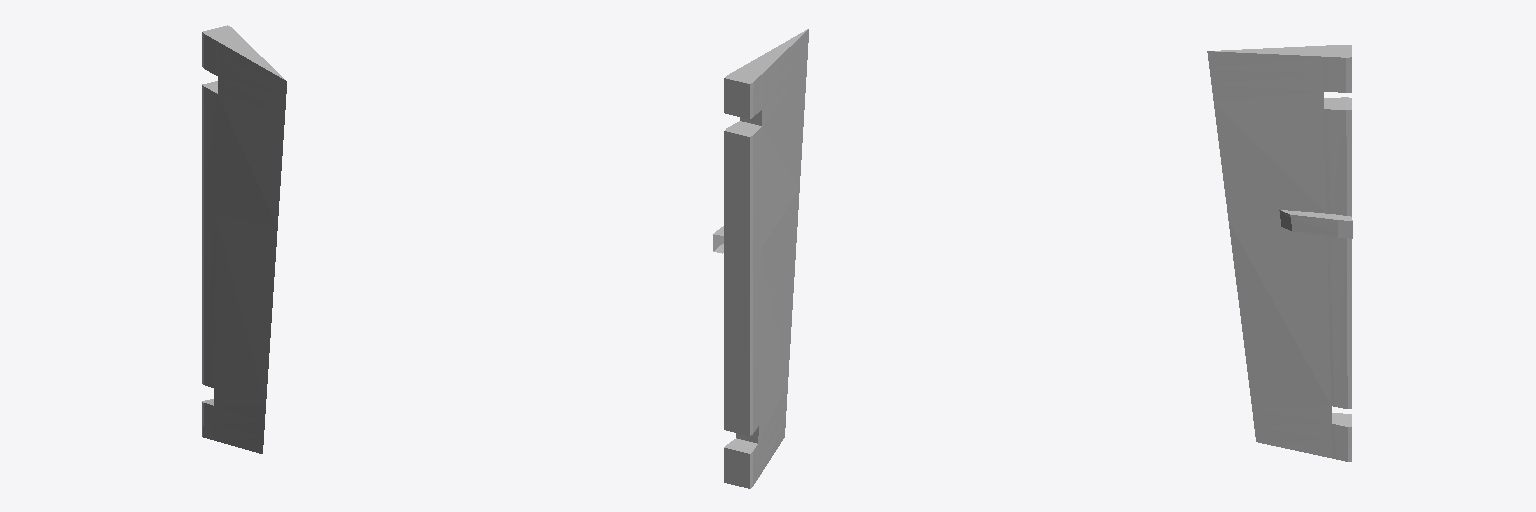
3 renders of one model, left to right at view 1: azimuth 30°, elevation 25°; view 2: azimuth 150°, elevation 25°; view 3: azimuth 270°, elevation 25°, orthographic.
Parts seen in each view (by area): view 1: rudder_control_pivot.001; view 2: rudder_control_pivot.001; view 3: rudder_control_pivot.001.
Part boxes in pixels (left/top/right/bottom): rudder_control_pivot.001: left=202, top=25, right=286, bottom=453; rudder_control_pivot.001: left=713, top=29, right=808, bottom=488; rudder_control_pivot.001: left=1207, top=45, right=1352, bottom=461.
Bounding box in the file's own units: 0.002 × 0.0212 × 0.0069.
Materials: 1 (1 with a texture image).